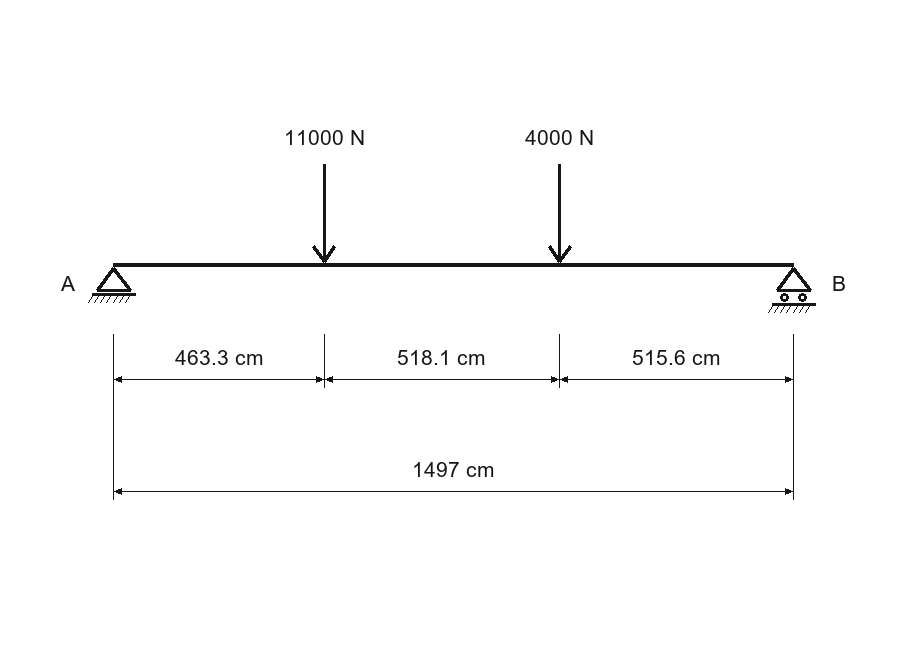pin_support: (88, 267, 136, 303)
point_load: (312, 164, 336, 263), (548, 164, 572, 263)
roller_support: (768, 267, 816, 313)
